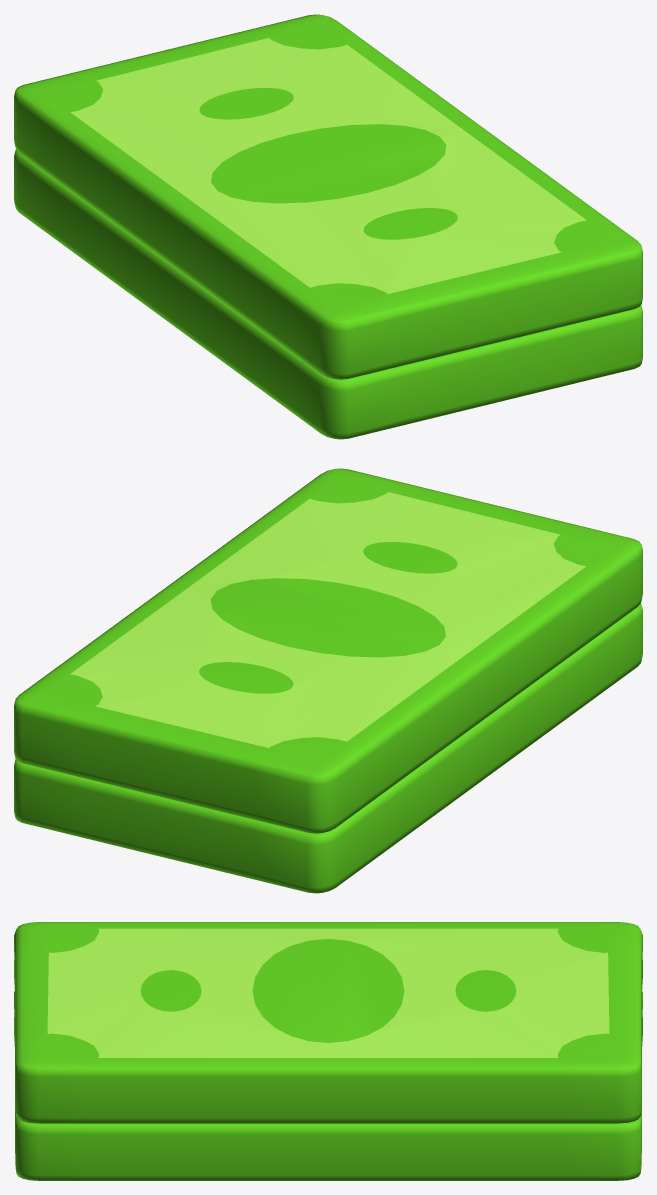
File: Money.fbx
3 renders of one model, top to bottom at view 1: azimuth 30°, elevation 25°; view 2: azimuth 150°, elevation 25°; view 3: azimuth 270°, elevation 25°, orthographic. The views are drawn at different scales.
Visible parts, largest first — view 1: Money; view 2: Money; view 3: Money.
Part boxes in pixels (x1,y1,x2,y2): Money: (14,14,642,439); Money: (14,468,642,893); Money: (14,922,642,1180).
Size of the model in its own units: 0.4797 by 0.1814 by 0.8534.
